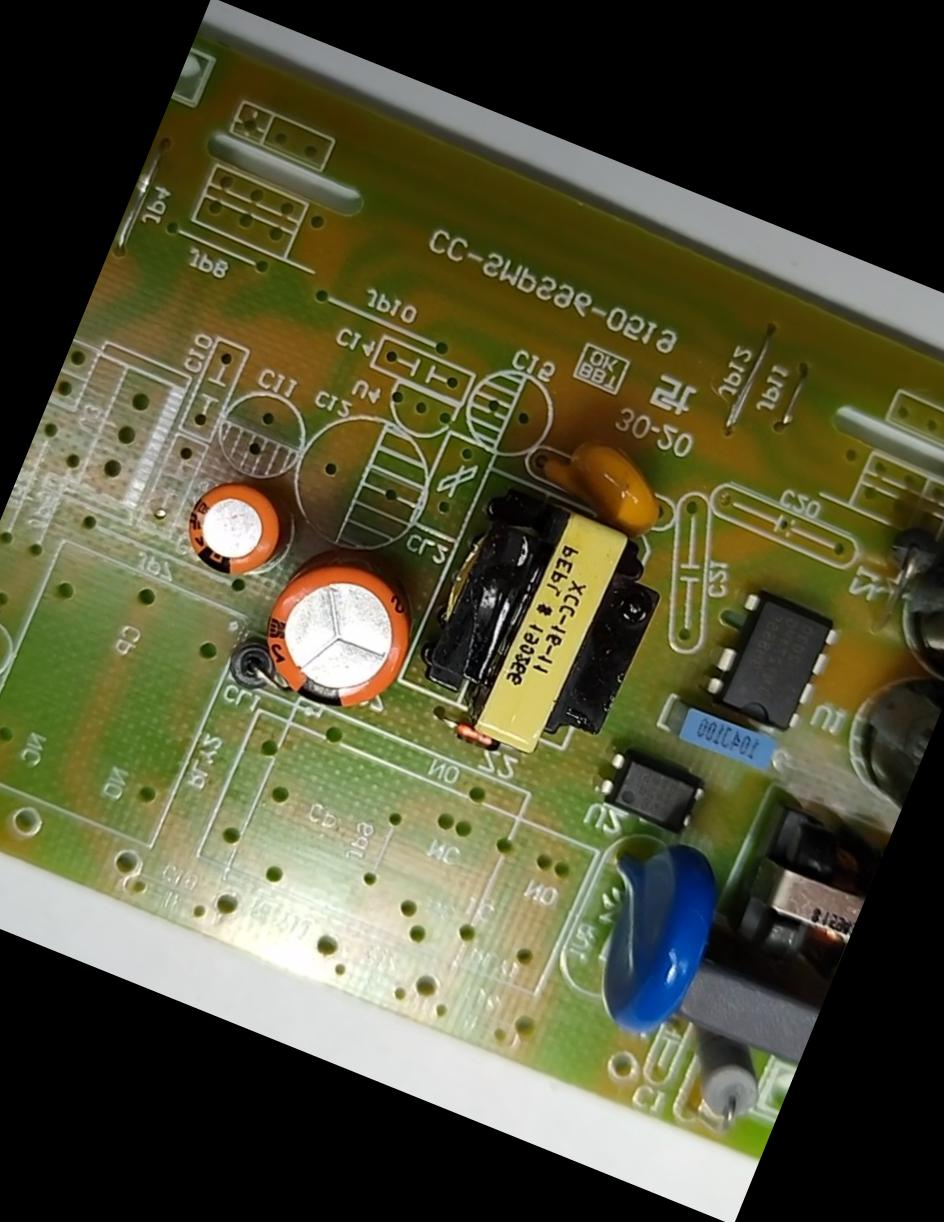Cap1: (236, 534, 436, 734)
Cap2: (171, 467, 296, 593)
Cap3: (822, 652, 943, 838)
Cap4: (876, 488, 943, 676)
MOSFET: (695, 578, 856, 746)
Mov: (551, 813, 750, 1053)
Resistor: (658, 1015, 782, 1136)
Transformer: (402, 469, 681, 785), (700, 788, 888, 995)
